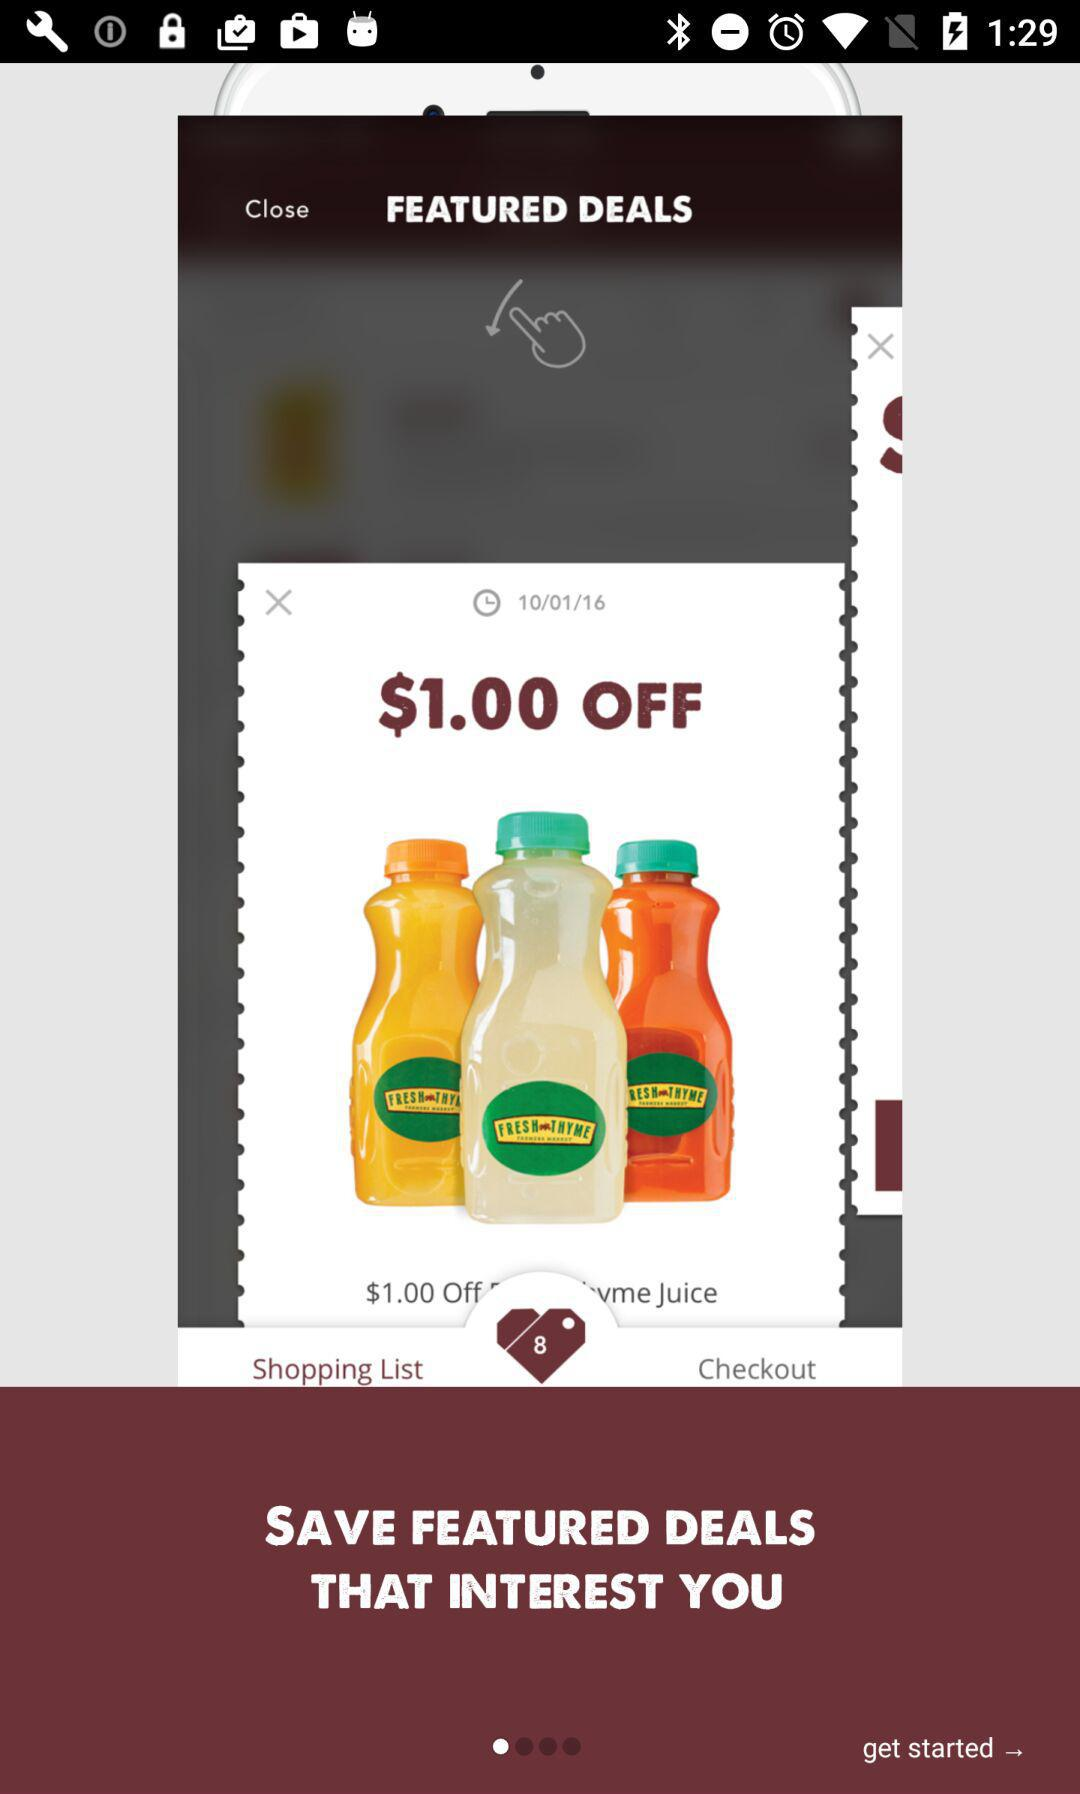Image: (179, 64, 902, 1387)
PageIndicator: (489, 1736, 583, 1759)
Text: (264, 1507, 817, 1615), (862, 1735, 1025, 1766)
UpperTaskBar: (1, 1, 1080, 64)
